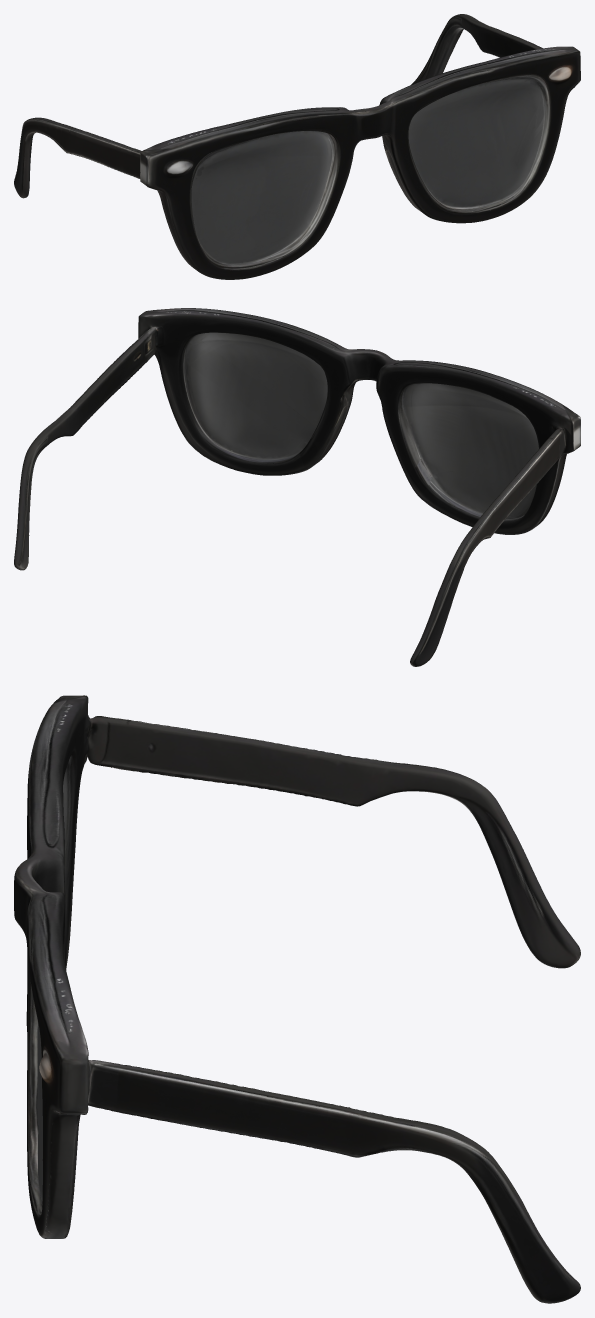
File: eyeglasses.glb
3 views of the same model, one above another, from view 1: azimuth 30°, elevation 25°; view 2: azimuth 150°, elevation 25°; view 3: azimuth 270°, elevation 25° (orthographic). The views are drawn at different scales.
Size of the model in its own units: 2 by 0.713 by 1.3.
Materials: 1 (1 with a texture image).
